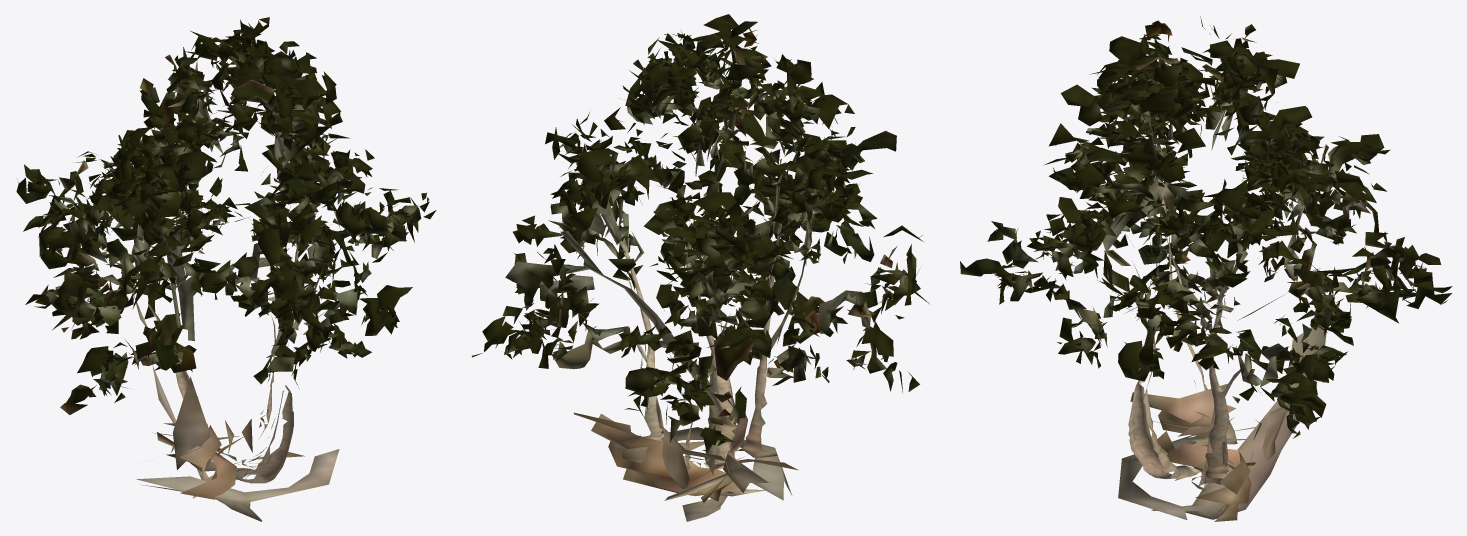
File: tree_07_birch_cluster.glb
3 renders of one model, left to right at view 1: azimuth 30°, elevation 25°; view 2: azimuth 150°, elevation 25°; view 3: azimuth 270°, elevation 25°, orthographic. The views are drawn at different scales.
Parts seen in each view (by area): view 1: geometry_0; view 2: geometry_0; view 3: geometry_0.
Part boxes in pixels (x1,y1,x2,y2): geometry_0: (16,17,436,521); geometry_0: (471,14,929,521); geometry_0: (960,16,1452,521).
Bounding box in the file's own units: 0.878 × 1 × 0.9307.
1 material, 1 textured.
